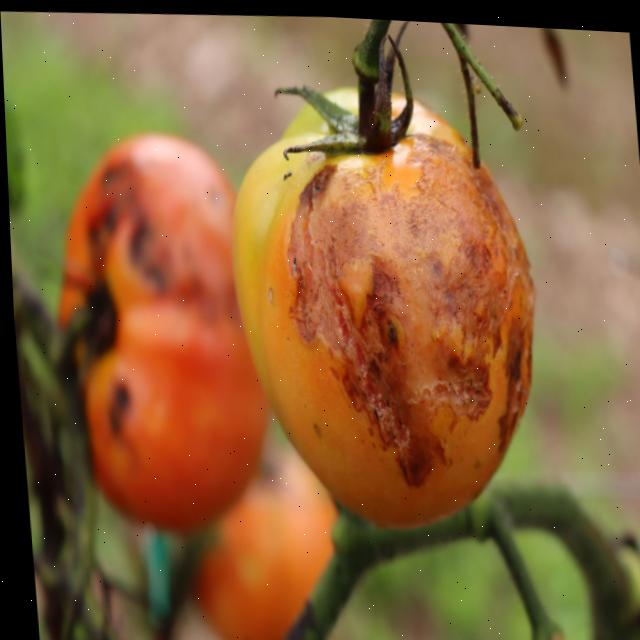damaged: (218, 60, 560, 558), (28, 102, 280, 550)
